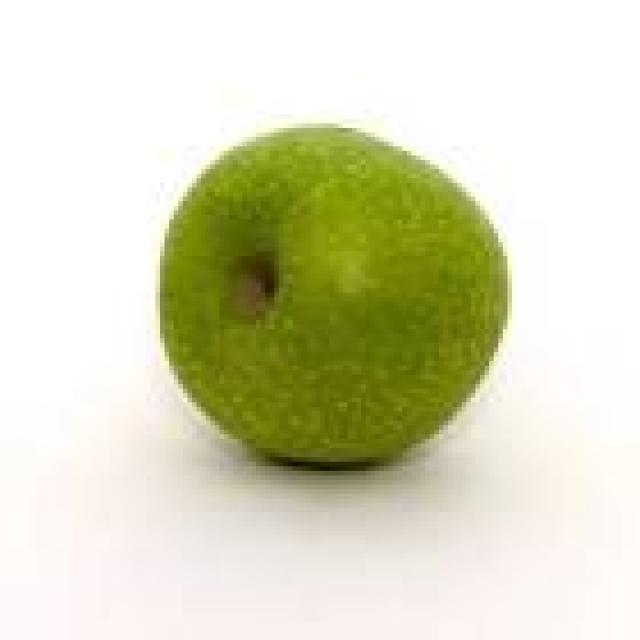apple: (160, 128, 507, 466)
